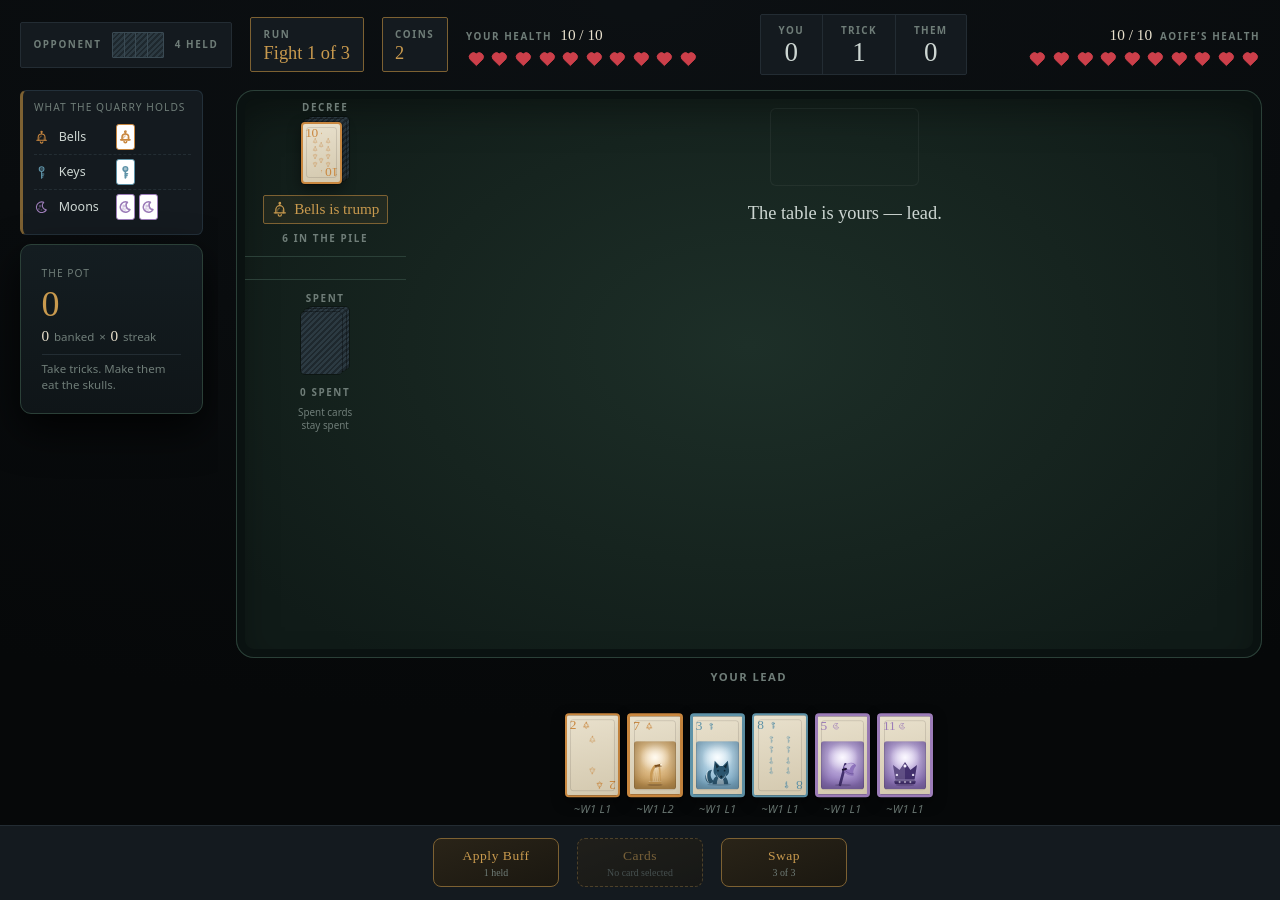
Test case: WarCouncilRound — buff ride wiring (DLR-153 Task 15) › shows the riding list with the reach sentence immediately, and the breakdown only on hovering a lit card (AC9/AC13, Phase 8 Correction 1)
Click the button "Apply Buff 1 held" at (496, 863), box [433, 838, 559, 887]
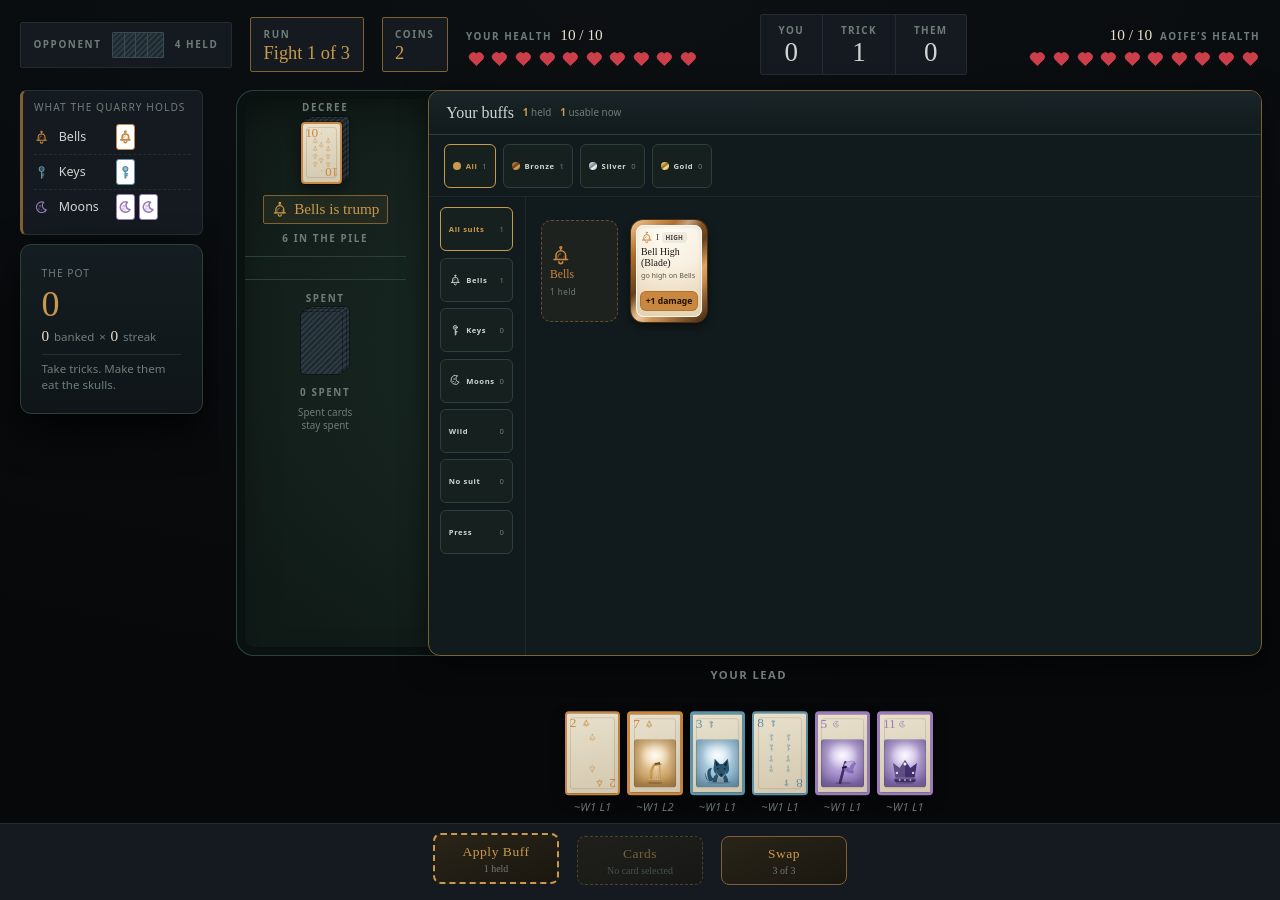
Click the button "I HIGH Bell High (Blade) go high on Bells +1 damage" at (669, 271), box [631, 220, 707, 322]
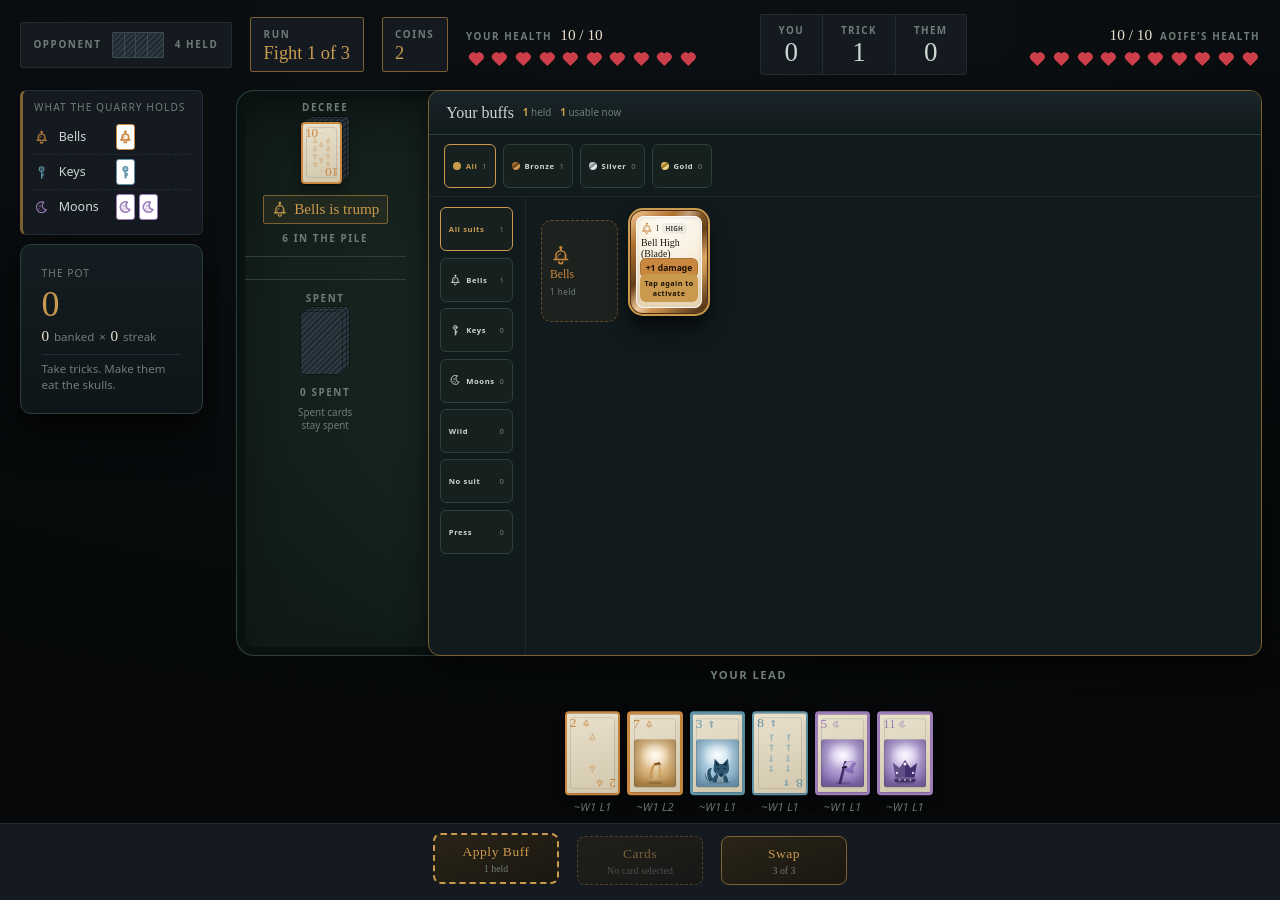
Click the button "Bell High" at (669, 262), box [631, 211, 707, 313]
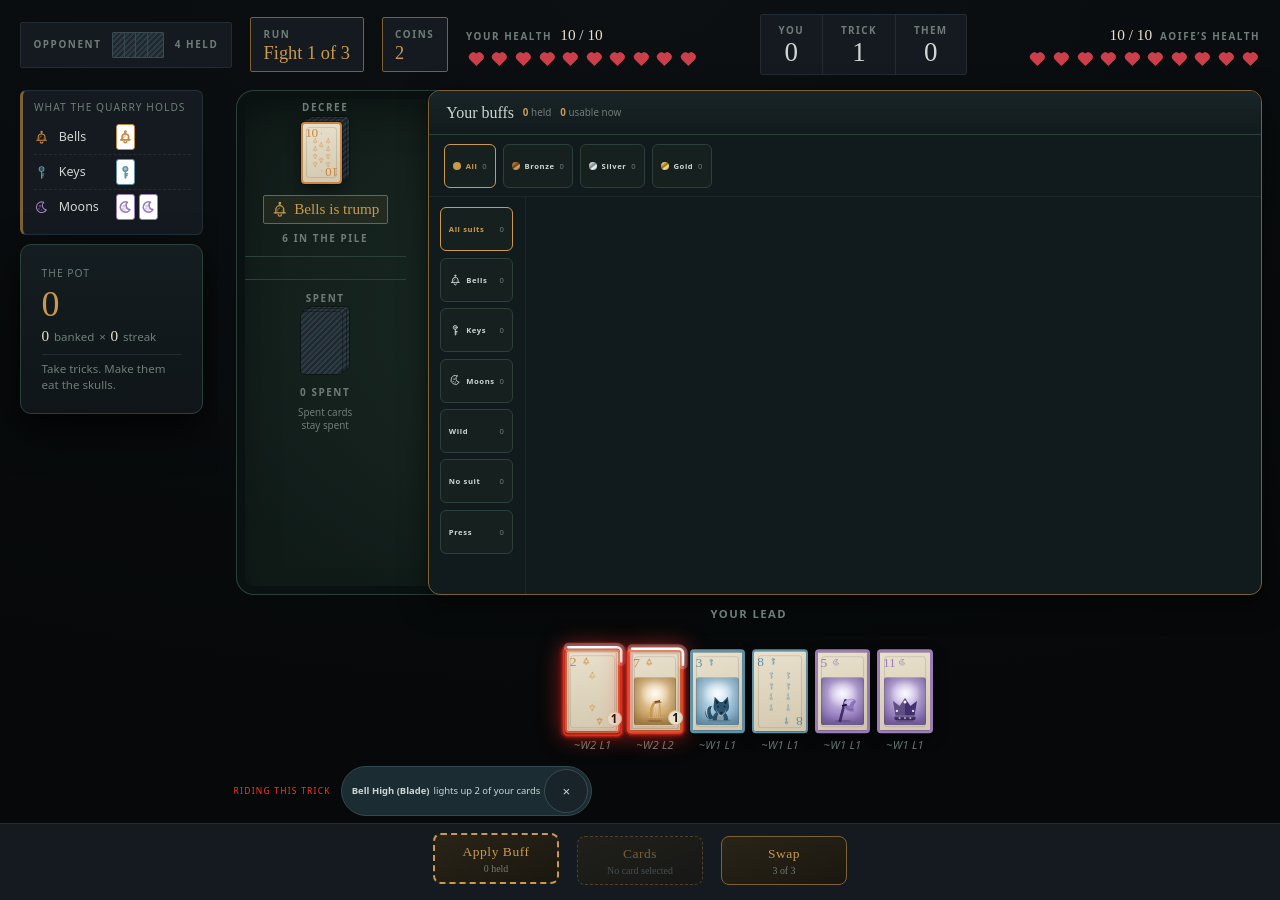
Click the button "Apply Buff 0 held" at (496, 859), box [433, 833, 559, 884]
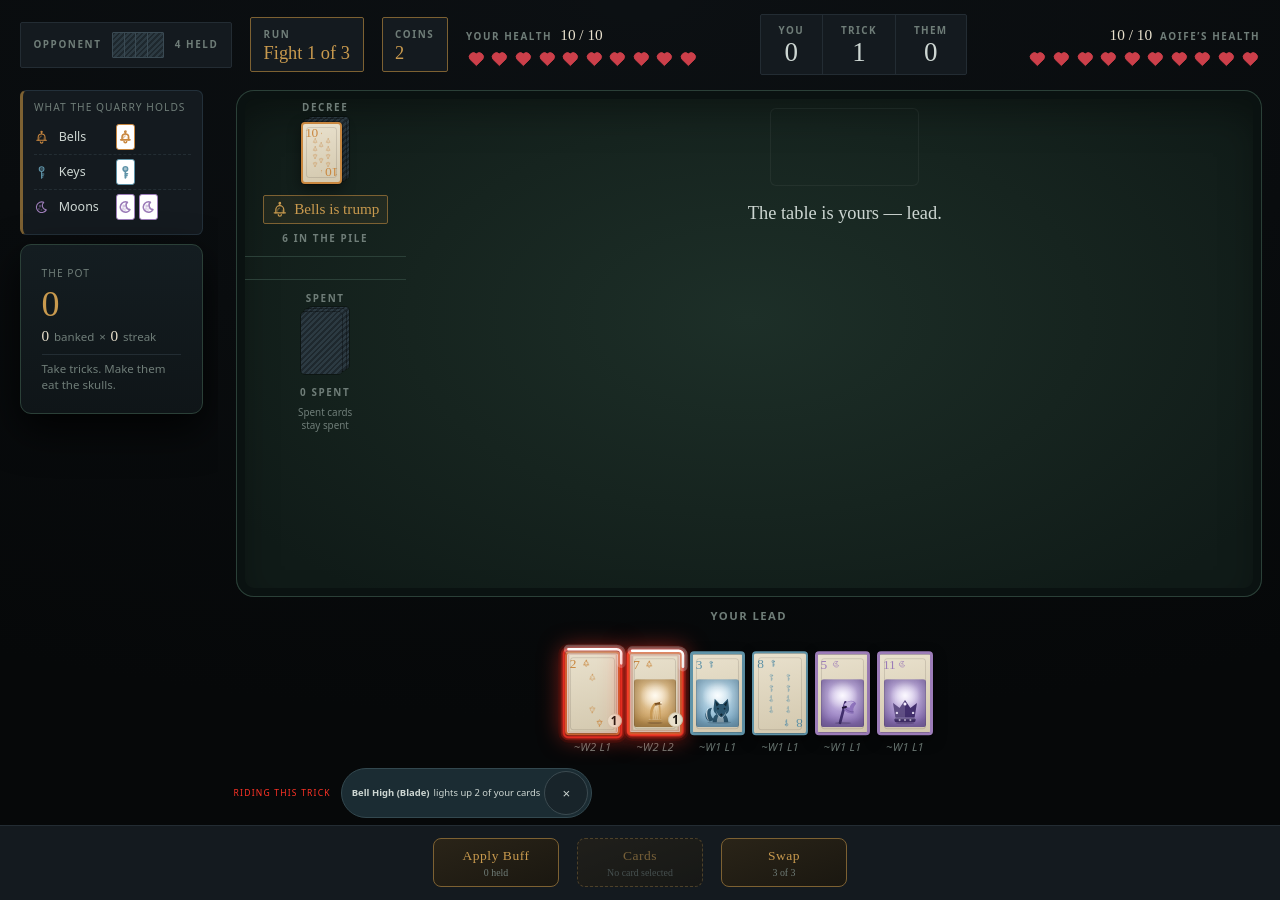
Now the element "Riding this trick" is shown, box [234, 768, 592, 818]
Now the text "lights up 2 of your cards" is shown, box [434, 786, 540, 800]
Hover over the element named "2 of Bells" at (593, 704), box [565, 655, 620, 754]
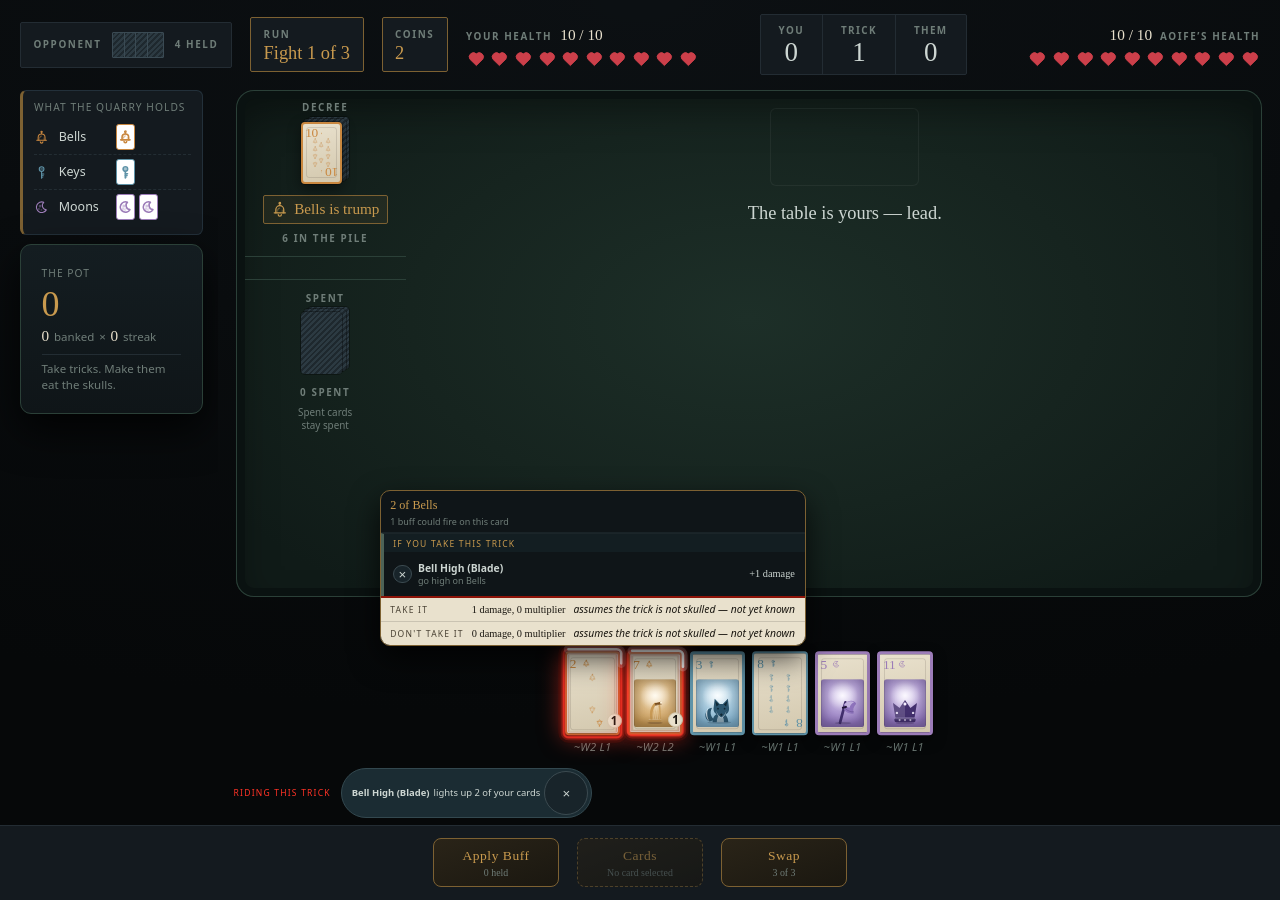
Now the element named "What this card is worth" is shown, box [380, 490, 806, 646]
